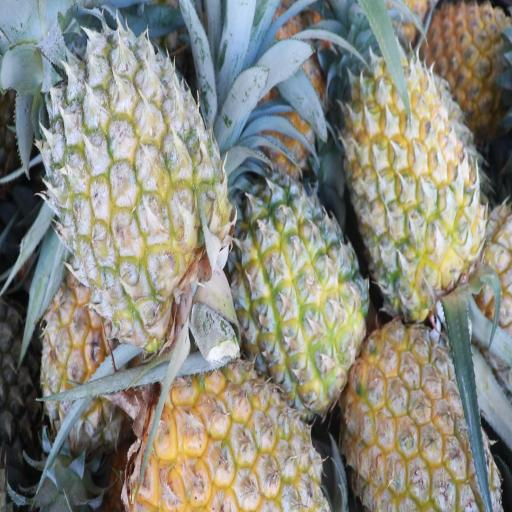------------------------------: (49, 38, 224, 328), (230, 175, 364, 408), (40, 273, 127, 448)
Pineapple - v8 v1: (335, 48, 482, 303), (130, 354, 326, 512), (352, 322, 494, 512), (425, 0, 512, 118)
